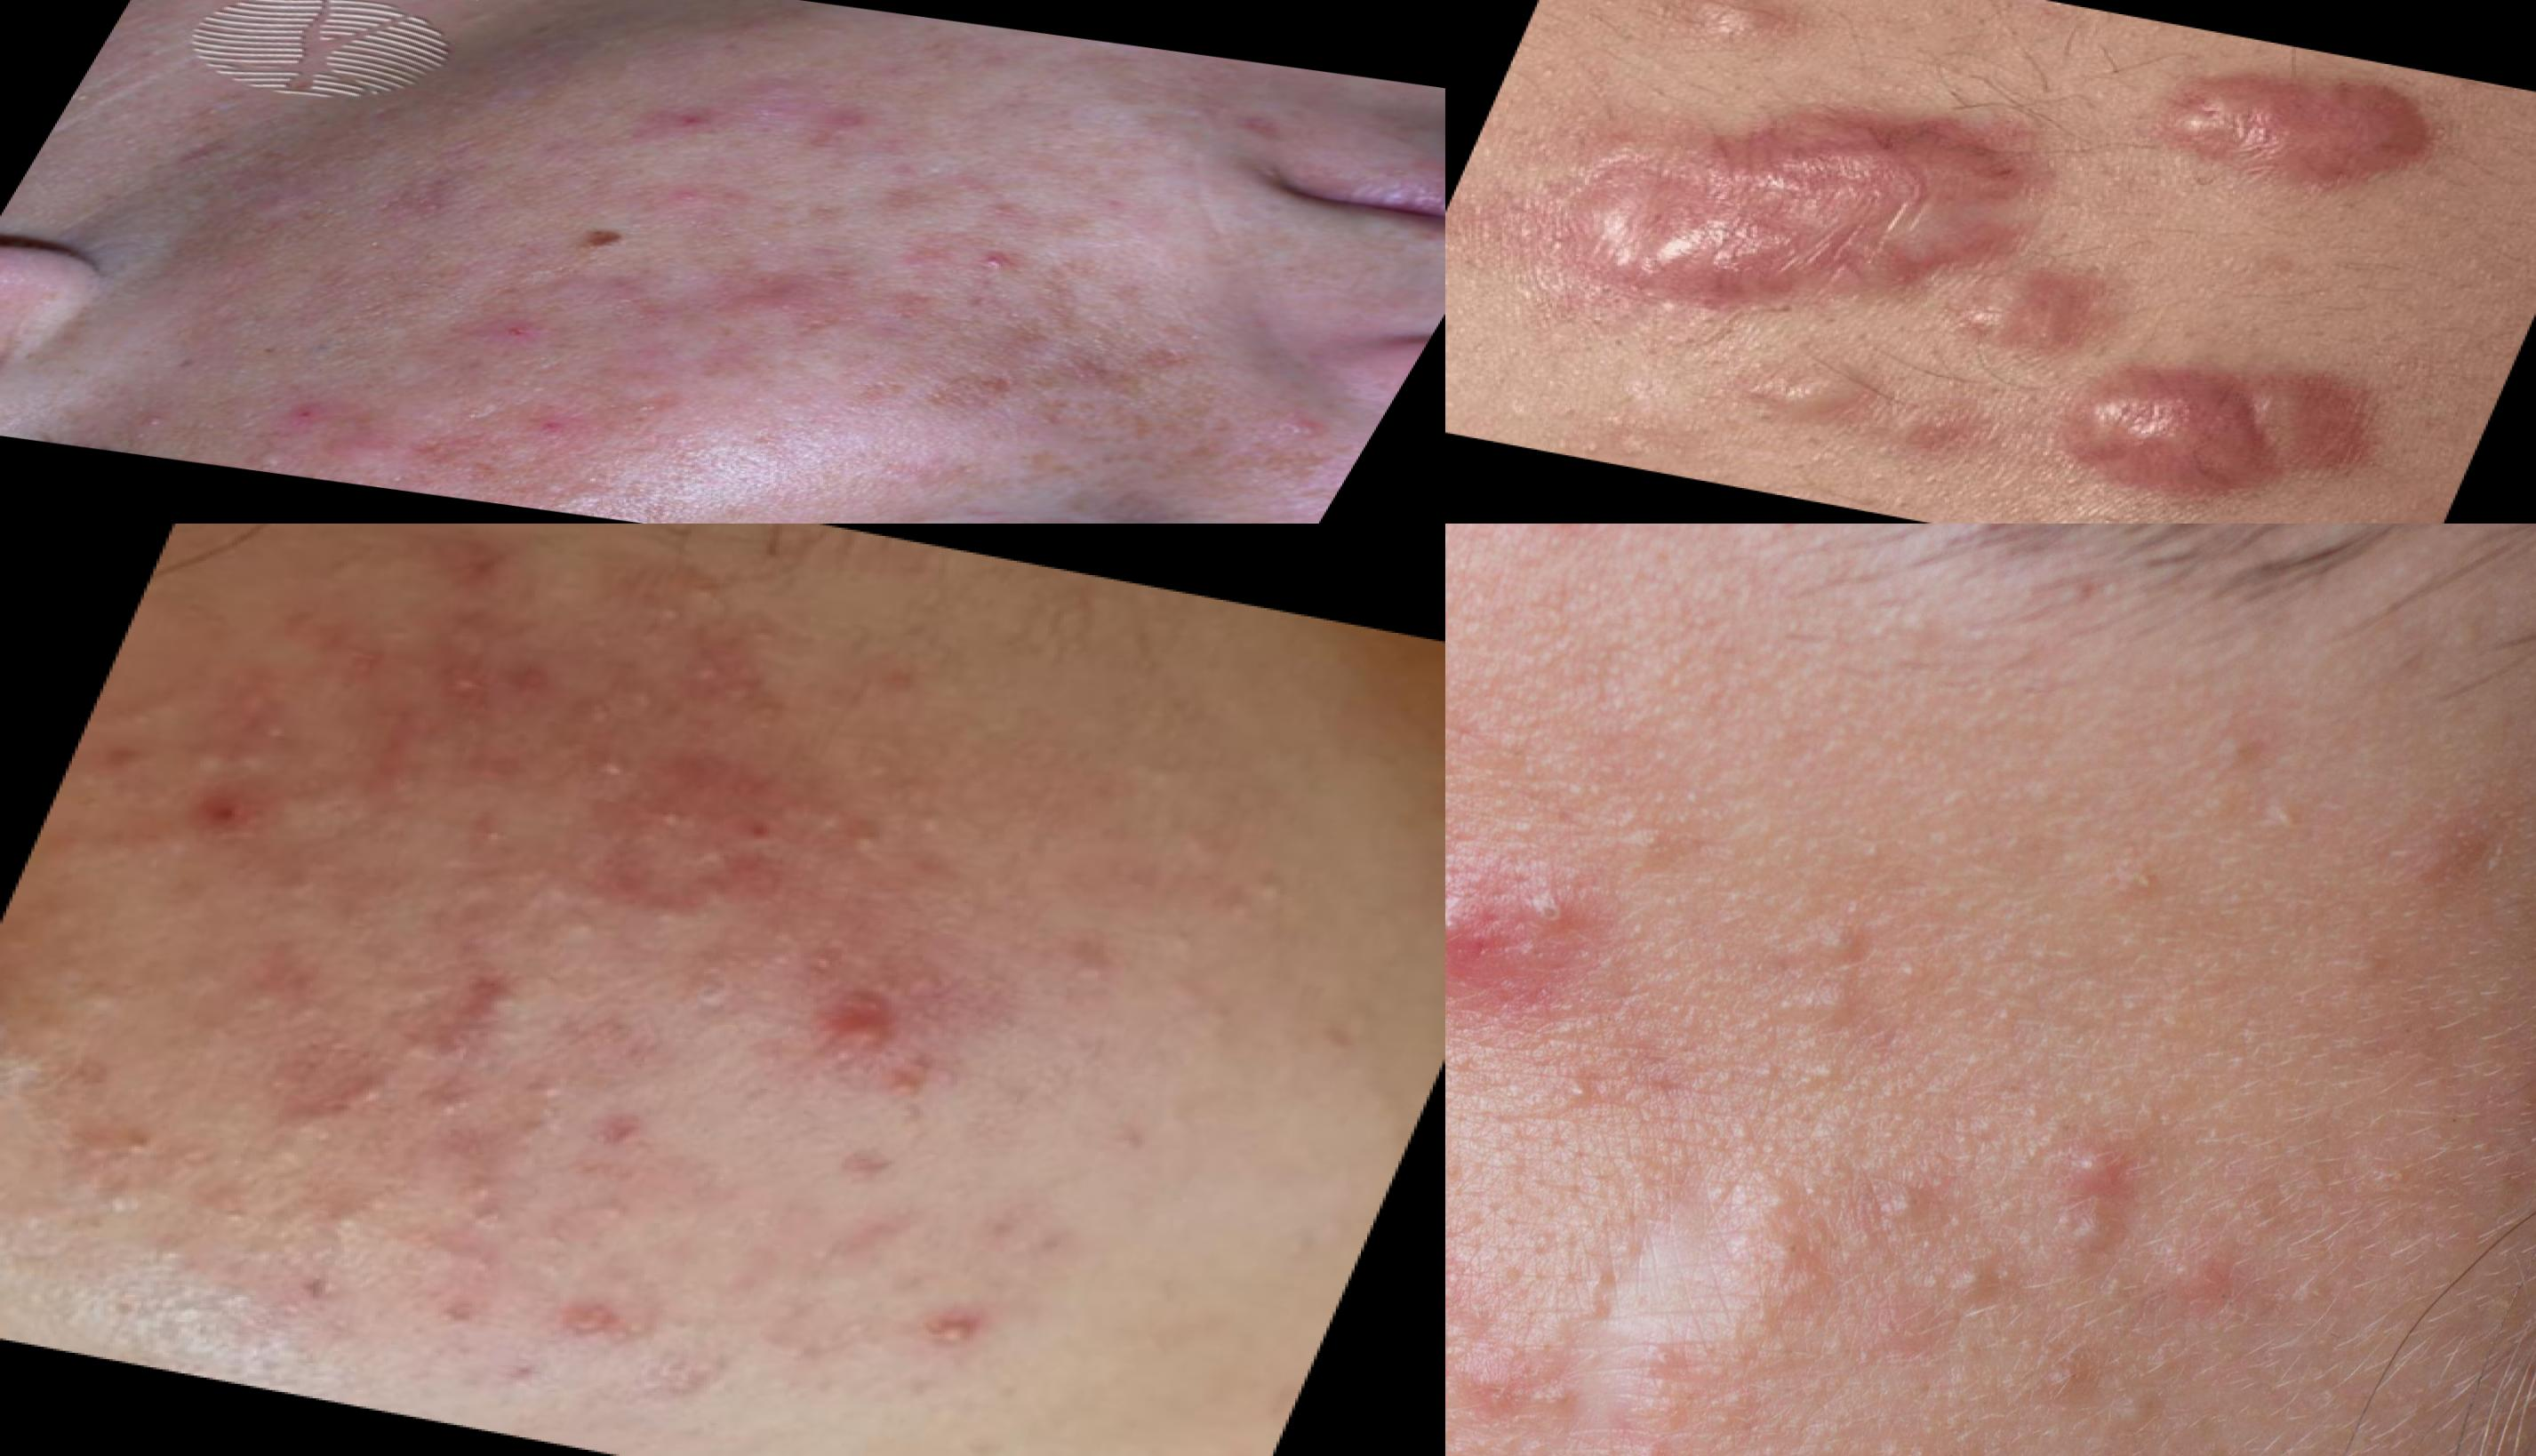cystic: (1637, 2, 1817, 78)
keloid: (1446, 38, 2109, 378), (2040, 341, 2411, 524), (2106, 37, 2468, 219), (1656, 326, 1951, 472), (2008, 256, 2120, 362)
papular: (2000, 1085, 2210, 1277), (1446, 819, 1582, 1050), (1684, 1141, 1855, 1308), (761, 968, 958, 1082), (428, 960, 597, 1040), (780, 91, 916, 162), (1482, 524, 1662, 568), (1245, 397, 1373, 451), (627, 96, 761, 145)
purulent: (904, 1271, 1036, 1367)
sebo-crystan-conglo: (240, 381, 437, 482)
whitehead: (16, 1109, 263, 1271), (1754, 893, 1925, 1062), (1446, 1322, 1573, 1456), (637, 538, 791, 648), (286, 1169, 428, 1268), (1839, 1148, 1963, 1257), (1197, 852, 1332, 934), (178, 693, 284, 792), (1916, 1231, 2022, 1329), (301, 1052, 416, 1132), (531, 1292, 650, 1364), (503, 1061, 596, 1146), (636, 1343, 737, 1418), (80, 390, 214, 446), (554, 735, 664, 801), (122, 1228, 221, 1299), (509, 869, 641, 921), (596, 669, 698, 733), (265, 839, 361, 906), (549, 679, 632, 754), (52, 956, 141, 1019), (1040, 932, 1125, 996), (625, 886, 725, 940), (435, 1169, 521, 1231), (411, 1069, 493, 1129), (420, 651, 505, 704), (453, 808, 535, 860), (831, 749, 918, 796), (1604, 1416, 1705, 1456), (582, 1188, 648, 1238), (900, 794, 960, 846), (674, 838, 740, 883), (192, 946, 242, 1000), (843, 820, 899, 862)
